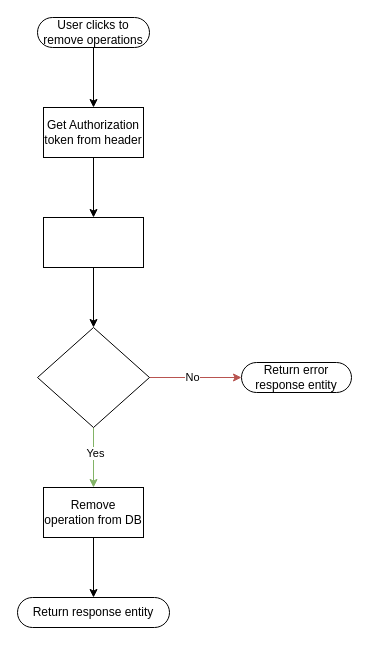
Image size: 369x645. Some labels were removed from this diagram. The shapes that lost their labels are listed below. From the top down, each one's centre as x and y in pixels, then its label:
the point at 93,242: Get User from token
the point at 93,377: User is authorized to create new operation?
